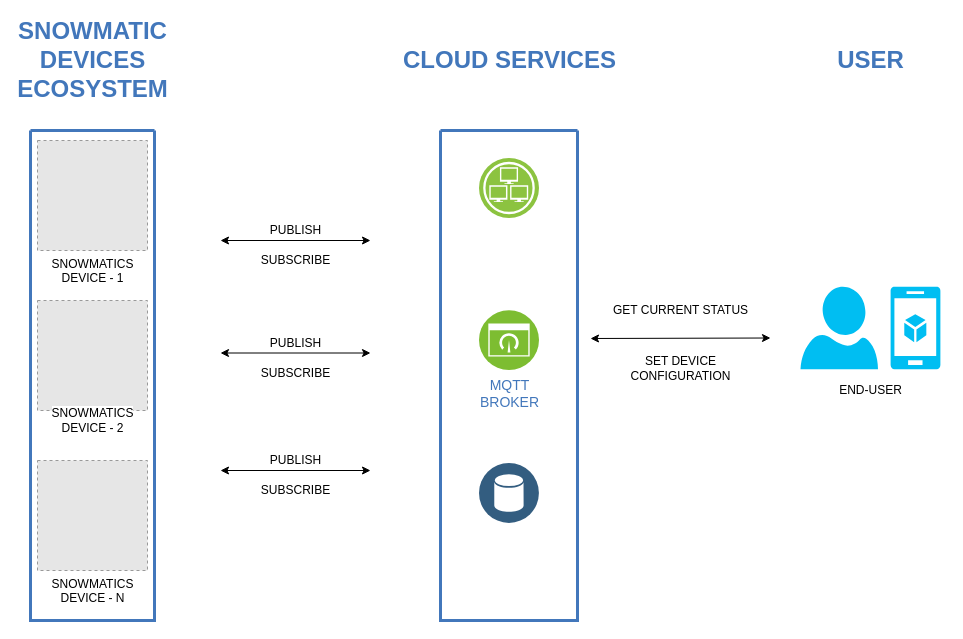
Some shapes in this 963 by 639 pixel diagram are drawn without their labels. Grey dashed boxes stand in for pictures. The centre of each missing label's shape, as x and y in pixels:
"DEVICE ENGINE" belongs at [509,188].
"DEVICE STATE STORAGE" belongs at [509,493].
